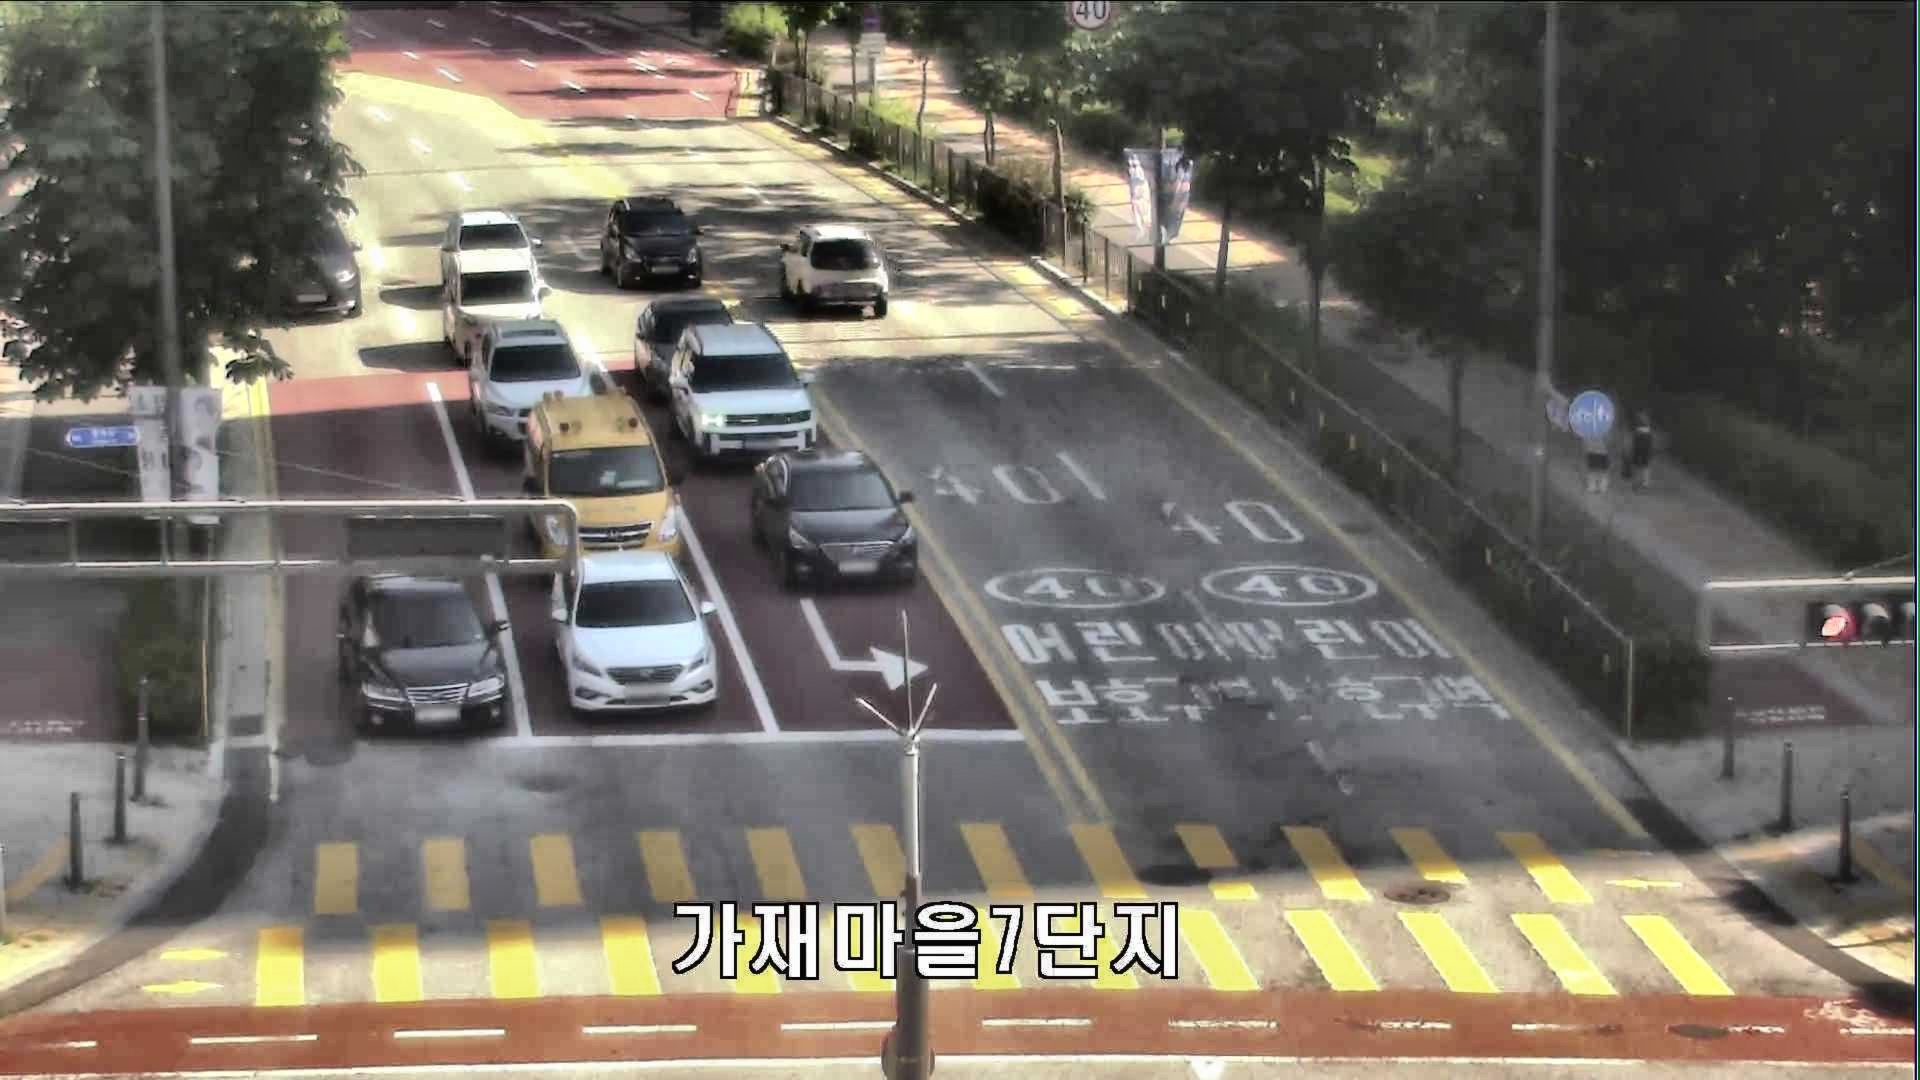sidewalk: (1623, 394, 1658, 491), (1578, 411, 1613, 496)
